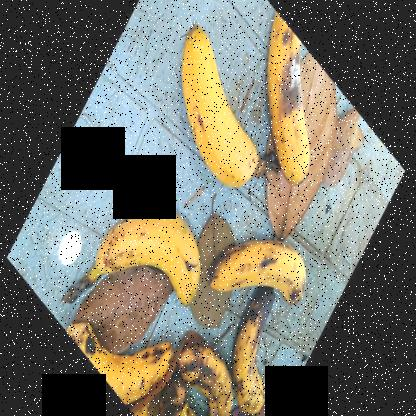freshripe: (151, 1, 263, 190)
ripe: (86, 203, 207, 303), (50, 321, 174, 401), (206, 232, 320, 311)
rotten: (244, 1, 324, 187), (229, 297, 284, 415), (188, 334, 243, 416)
